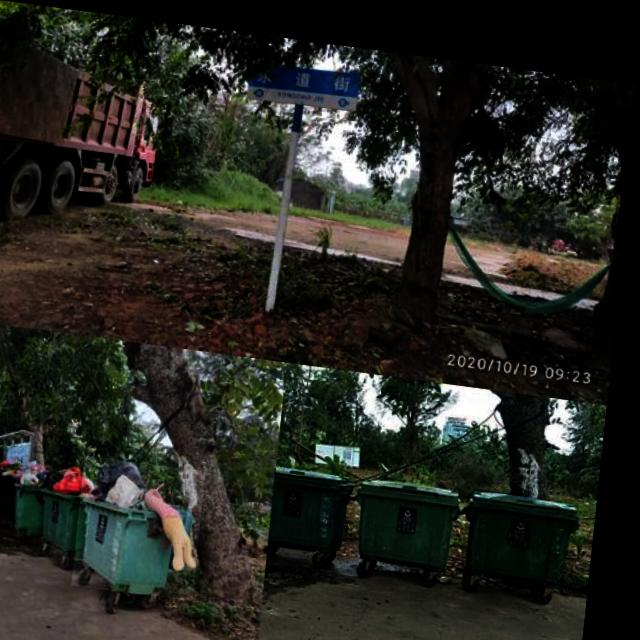garbage_bin: (471, 474, 589, 570), (361, 463, 469, 555), (278, 455, 363, 541)
overflow: (84, 452, 215, 594), (47, 459, 100, 549), (0, 454, 56, 533)
